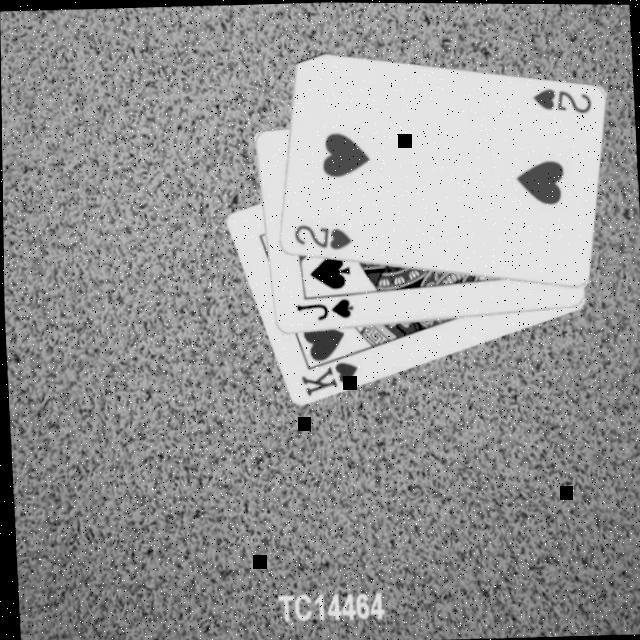2H: (288, 218, 352, 252), (528, 82, 592, 116)
JS: (290, 294, 354, 323)
KH: (296, 356, 360, 398)
